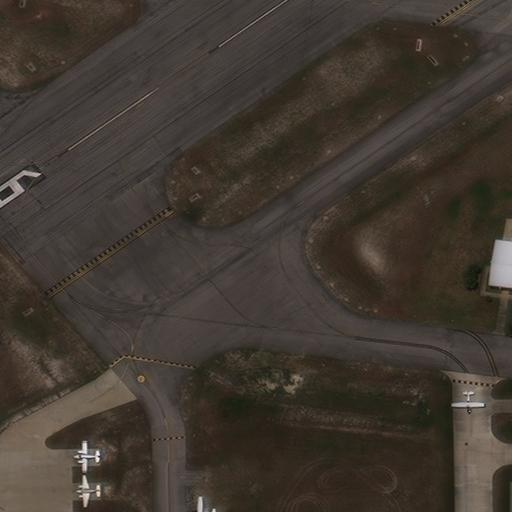Small Civil Transport: (73, 439, 101, 473), (76, 475, 101, 508), (450, 391, 484, 414), (191, 495, 216, 511)
